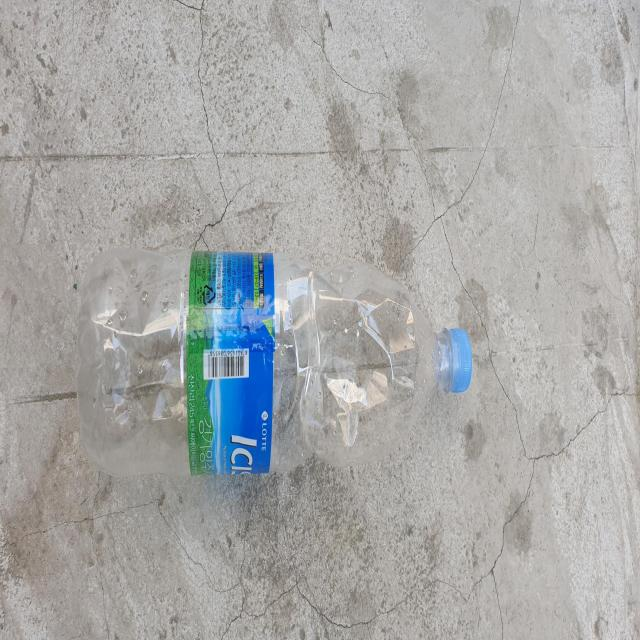plastic: (75, 248, 473, 476)
